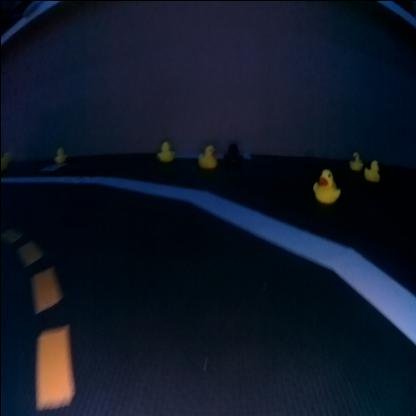Duckie: (311, 167, 339, 202), (197, 146, 215, 166), (362, 158, 378, 180), (156, 140, 173, 160), (348, 151, 360, 168), (52, 146, 64, 160)
